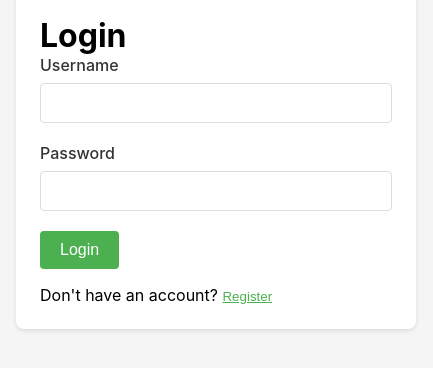
it: Login › toggles to register
Click the button "Register": coordinates (247, 296) [222,289,272,304]
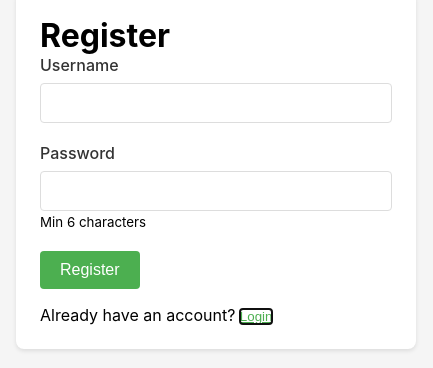
Check: the heading "Register" is shown, box [40,16,170,55]
Check: the button "Register" is shown, box [40,251,140,289]
